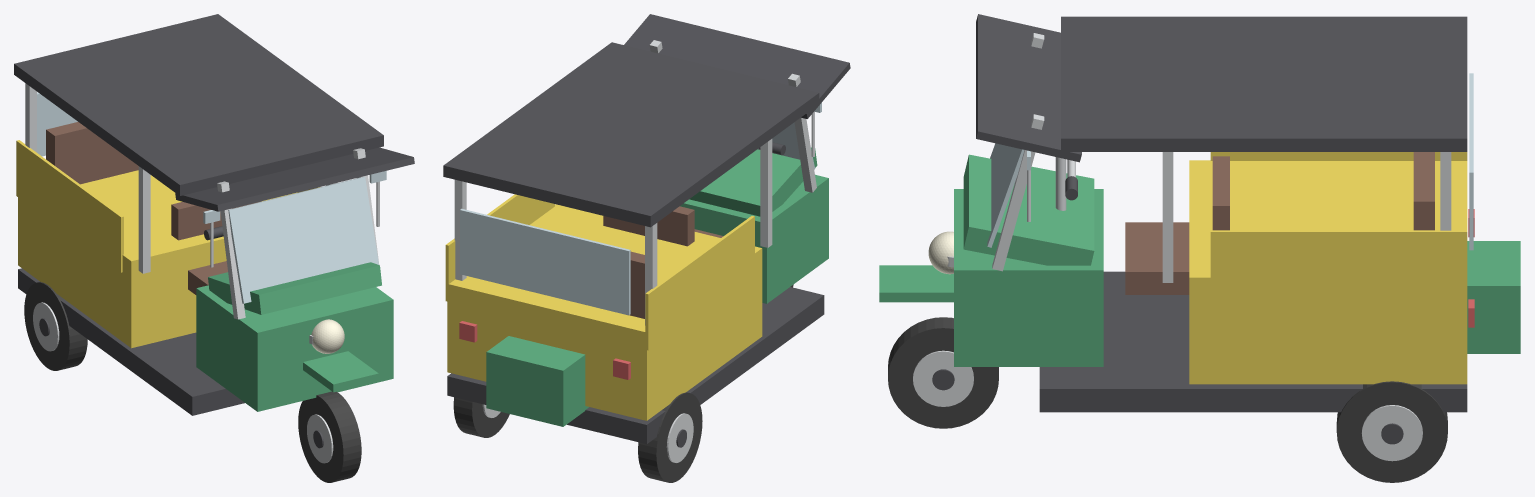
File: auto_rickshaw.glb
The picture shows the model from 3 angles, left to right: view 1: azimuth 30°, elevation 25°; view 2: azimuth 150°, elevation 25°; view 3: azimuth 270°, elevation 25°; orthographic projection. The views are drawn at different scales.
Visible parts, largest first — view 1: part_5, part_1, part_2, part_13, part_0, part_14, part_6, part_3, part_31, part_18, part_34, part_4 (+9 smaller); view 2: part_5, part_1, part_16, part_6, part_40, part_0, part_2, part_14, part_3, part_34, part_15, part_20 (+8 smaller); view 3: part_5, part_1, part_0, part_15, part_2, part_6, part_3, part_37, part_40, part_31, part_19, part_4 (+11 smaller).
Boxes of the visible parts, x1,y1,x2,y2 form: part_5: (14,14,383,195); part_1: (18,170,297,348); part_2: (196,285,393,411); part_13: (228,177,378,303); part_0: (18,268,244,415); part_14: (16,140,123,272); part_6: (175,147,414,211); part_3: (208,262,381,314); part_31: (298,391,361,482); part_18: (46,122,138,184); part_34: (24,281,87,370); part_4: (303,351,378,392); part_5: (443,42,819,227); part_1: (447,204,762,420); part_16: (460,208,630,315); part_6: (624,14,850,118); part_40: (486,336,588,426); part_0: (447,287,824,444); part_2: (680,174,828,303); part_14: (645,216,754,350); part_3: (689,147,817,216); part_34: (638,392,702,482); part_15: (445,194,554,301); part_20: (603,206,694,246); part_5: (1061,16,1467,151); part_1: (1189,160,1467,384); part_0: (1039,271,1467,412); part_15: (1210,230,1467,299); part_2: (954,189,1103,366); part_6: (976,14,1081,162); part_3: (963,154,1094,265); part_37: (1336,381,1447,482); part_40: (1467,241,1520,353); part_31: (888,317,998,428); part_19: (1125,222,1189,294); part_4: (879,265,953,302).
Size of the model in its own units: 1.36 by 1.81 by 3.
